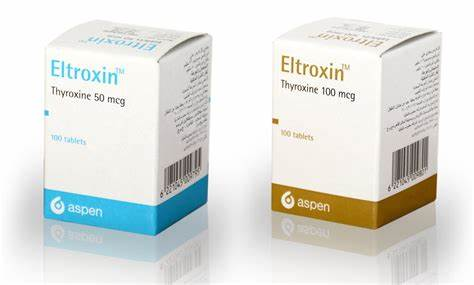Medicine: (38, 14, 221, 242), (268, 15, 445, 233)
